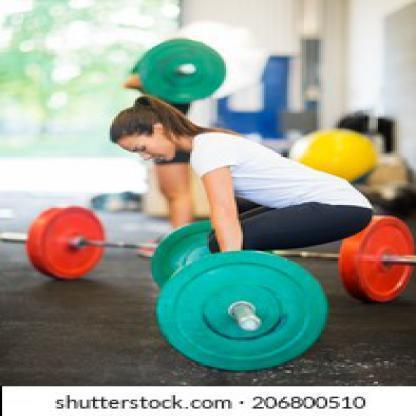barbell: (1, 206, 416, 302), (152, 220, 327, 369)
